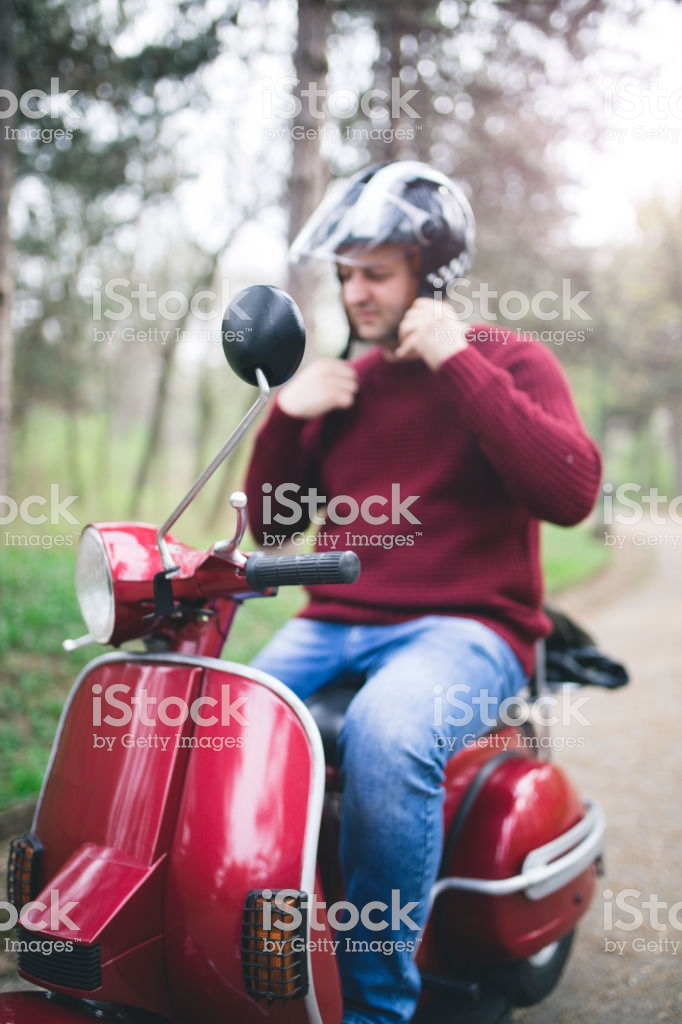helmet: (326, 157, 472, 275)
